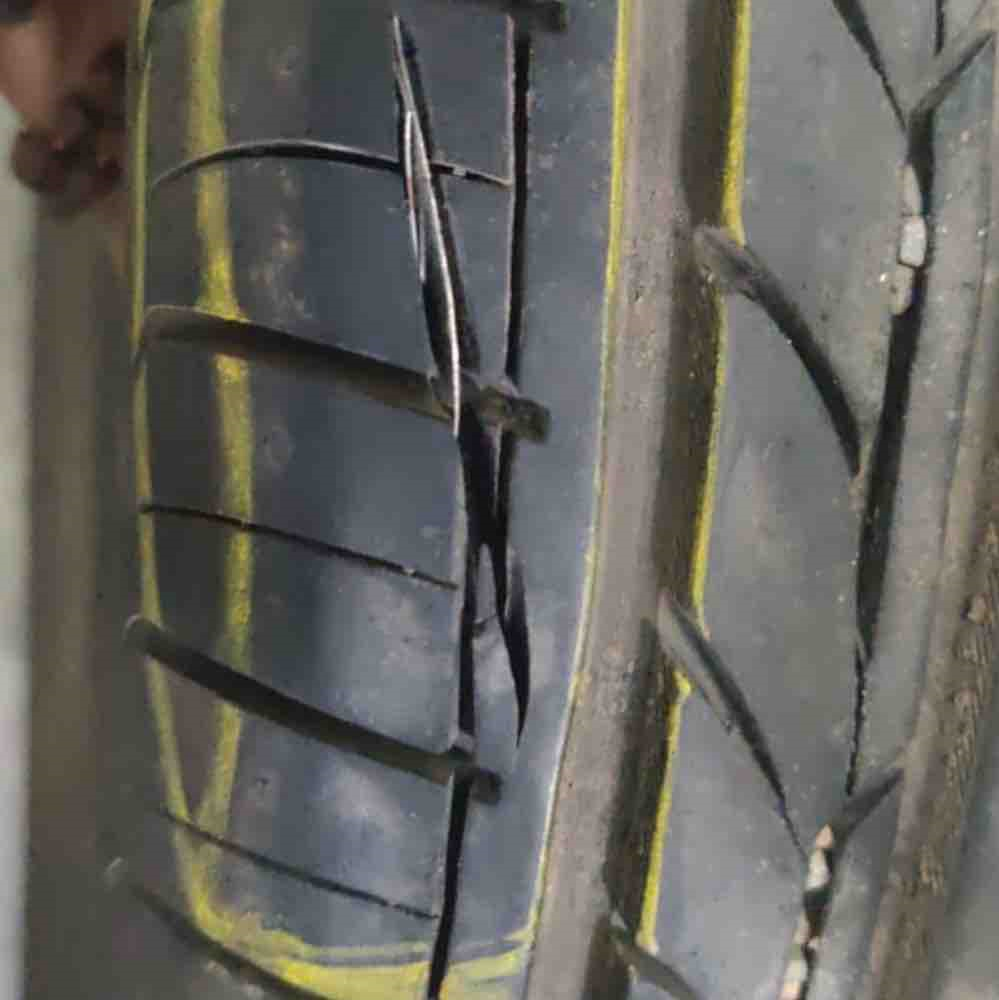tr: (380, 6, 543, 769)
